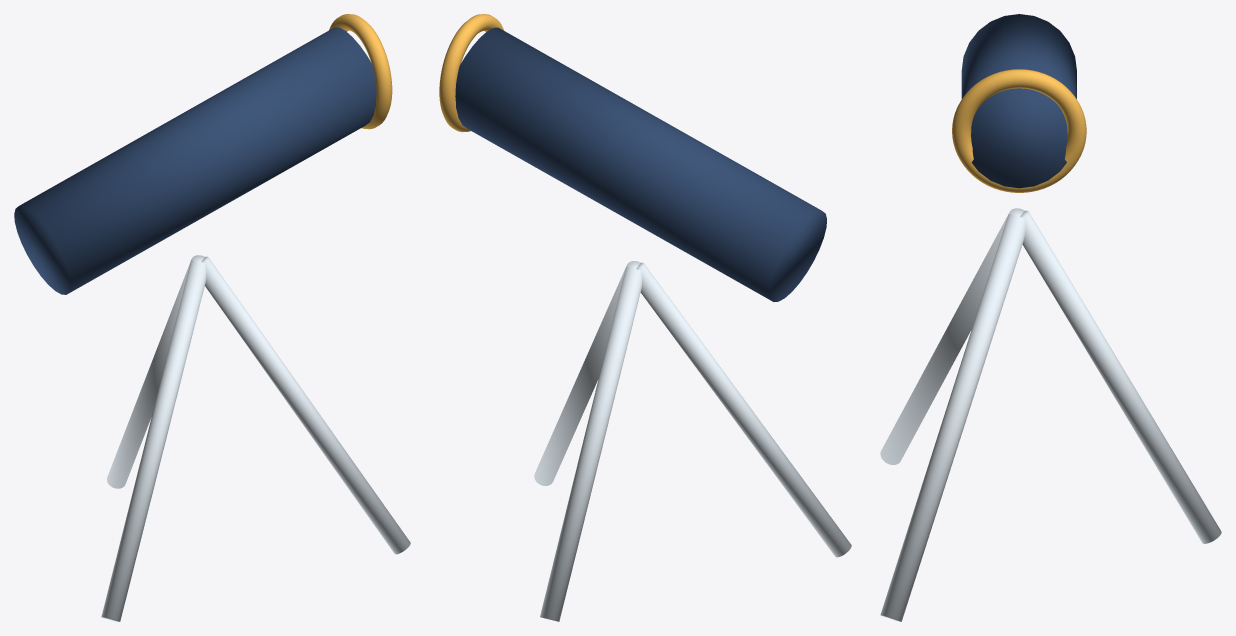
File: astronomical-telescope-quality.glb
3 views of the same model, side by side, from view 1: azimuth 30°, elevation 25°; view 2: azimuth 150°, elevation 25°; view 3: azimuth 270°, elevation 25° (orthographic). The views are drawn at different scales.
Parts seen in each view (by area): view 1: Tube; view 2: Tube; view 3: Tube.
Boxes of the visible parts, x1,y1,x2,y2 form: Tube: (14,14,410,621); Tube: (439,14,851,621); Tube: (880,14,1221,621).
Size of the model in its own units: 1.41 by 1.93 by 1.06.
